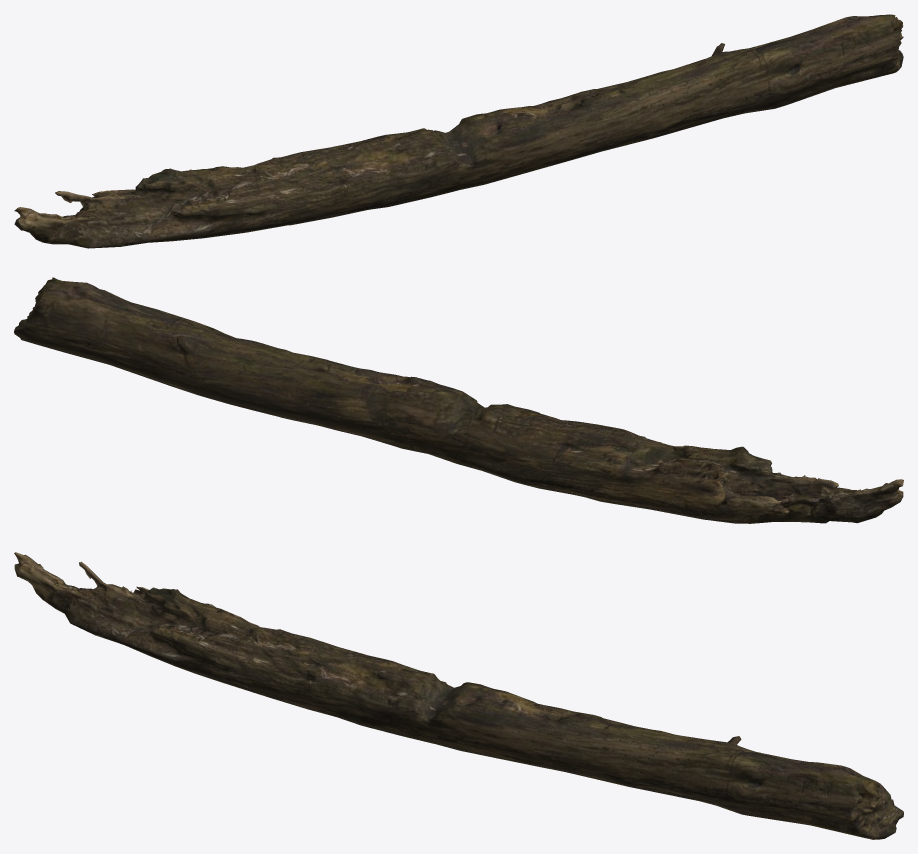
Rendered from dead_tree_trunk.glb.
3 views of the same model, one above another, from view 1: azimuth 30°, elevation 25°; view 2: azimuth 150°, elevation 25°; view 3: azimuth 330°, elevation 25° (orthographic).
Visible parts, largest first — view 1: dead_tree_trunk; view 2: dead_tree_trunk; view 3: dead_tree_trunk.
Boxes of the visible parts, left/top/right/bottom form: dead_tree_trunk: left=14, top=14, right=903, bottom=248; dead_tree_trunk: left=14, top=277, right=903, bottom=523; dead_tree_trunk: left=14, top=552, right=903, bottom=839.
Bounding box in the file's own units: 3.05 × 0.2905 × 0.2771.
1 material, 1 textured.
